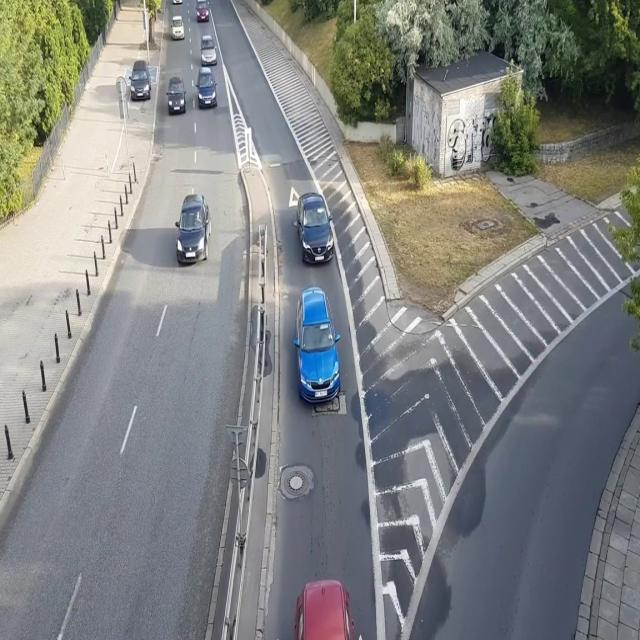car: (294, 287, 344, 407), (289, 579, 358, 640), (295, 191, 334, 268), (174, 191, 211, 266), (128, 60, 152, 102), (195, 67, 218, 108), (166, 76, 186, 115), (200, 35, 218, 67), (171, 16, 186, 41), (195, 0, 209, 22), (171, 0, 183, 5)
